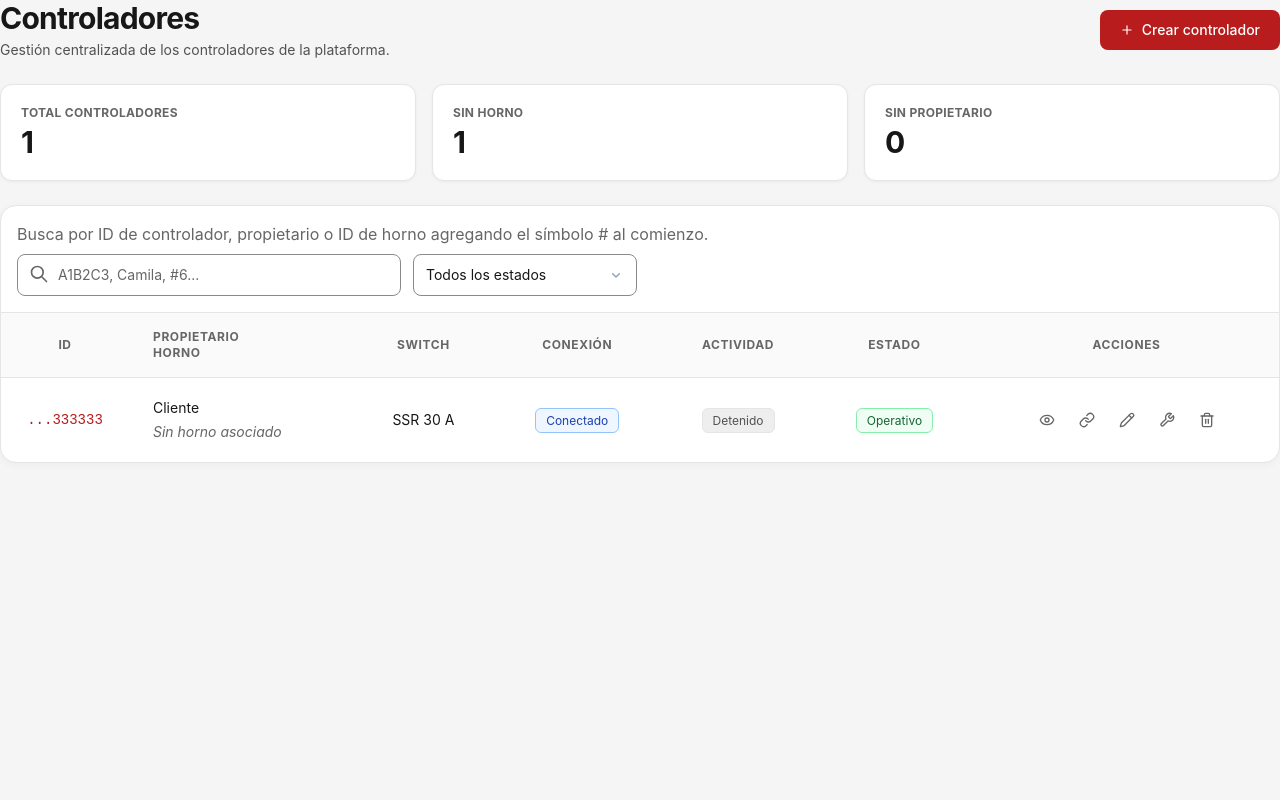
technician equipment management › uses the responsive admin controller detail and association modal
Expected: the column heading "Switch" is shown, [354,313,493,378]
Expected: the column heading "Temperatura" is not shown
Click the button titled "Asociar horno".
click(1086, 420)  # box [1070,404,1102,436]
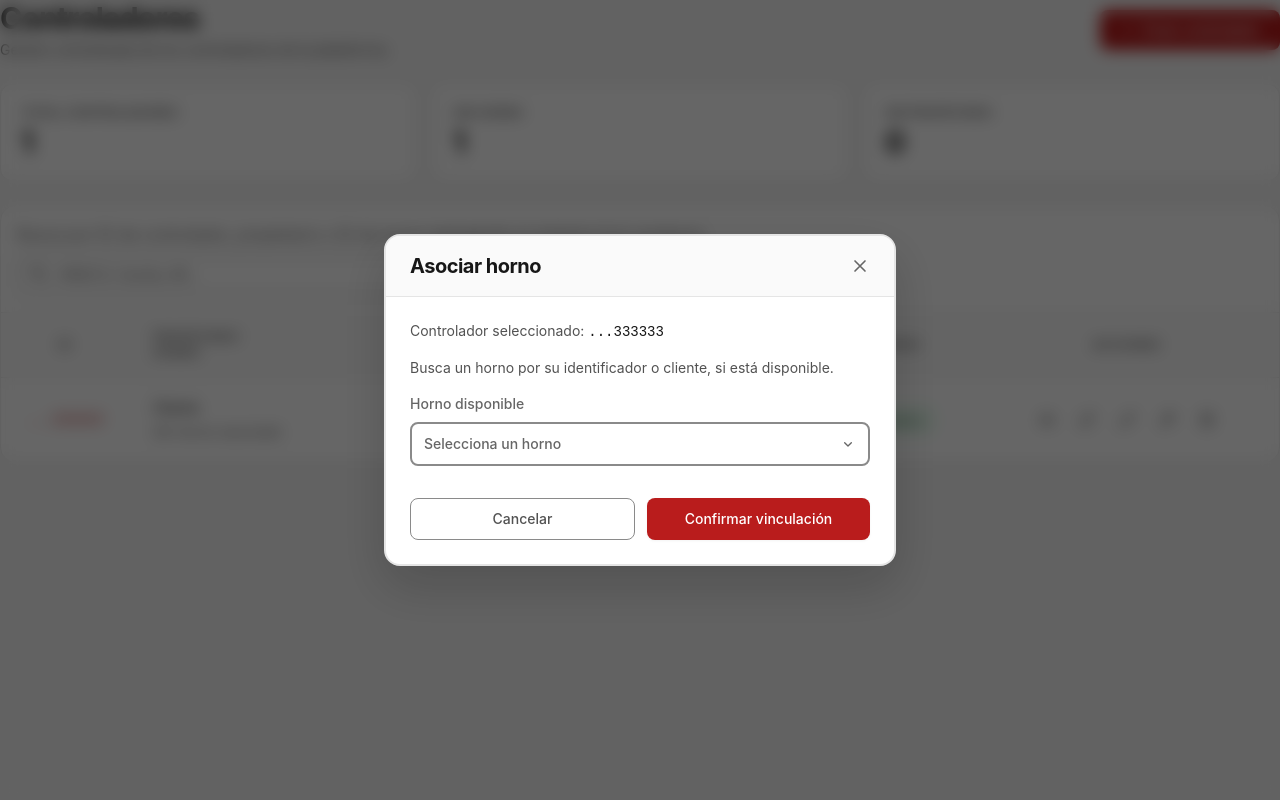
Expected: the heading "Asociar horno" is shown, [410,252,541,280]
Click the button "Cancelar".
click(522, 519)  # box [410,498,635,540]
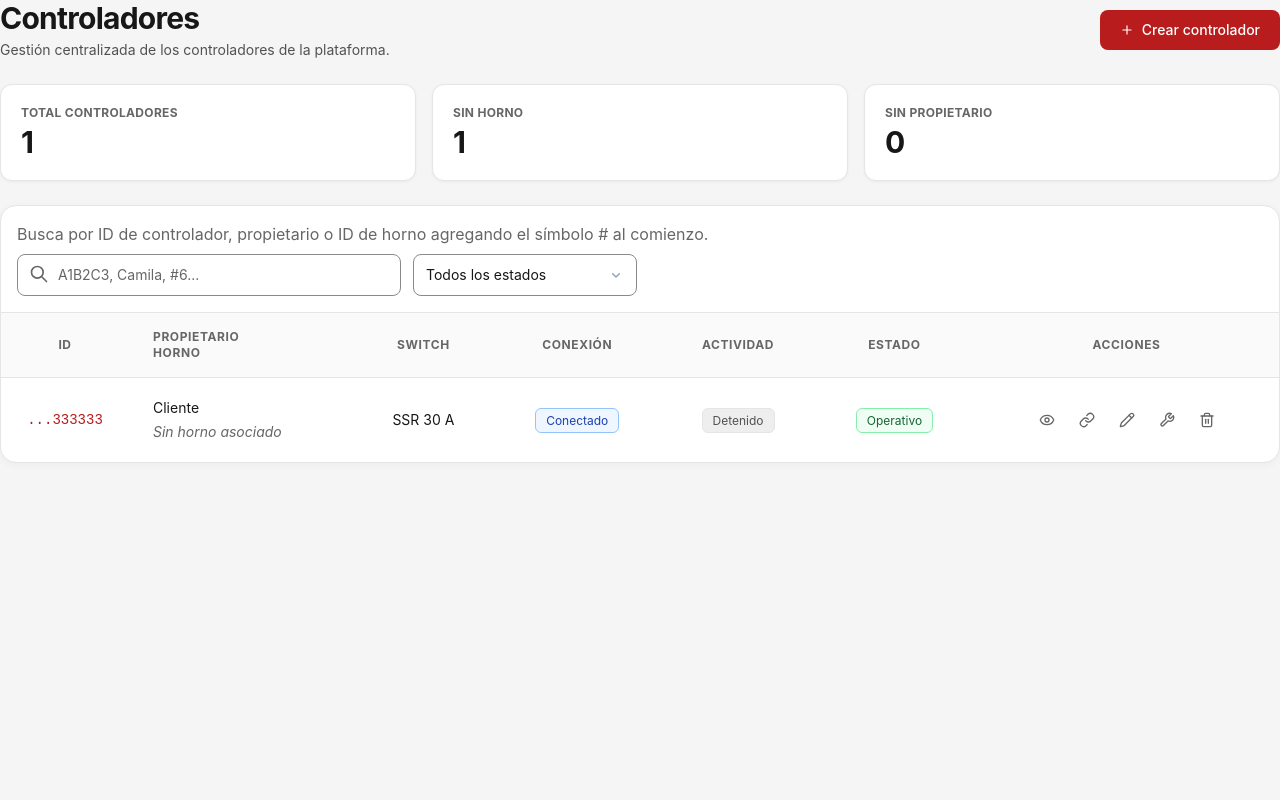
Click the button titled "Ver detalles".
click(1046, 420)  # box [1030,404,1062,436]
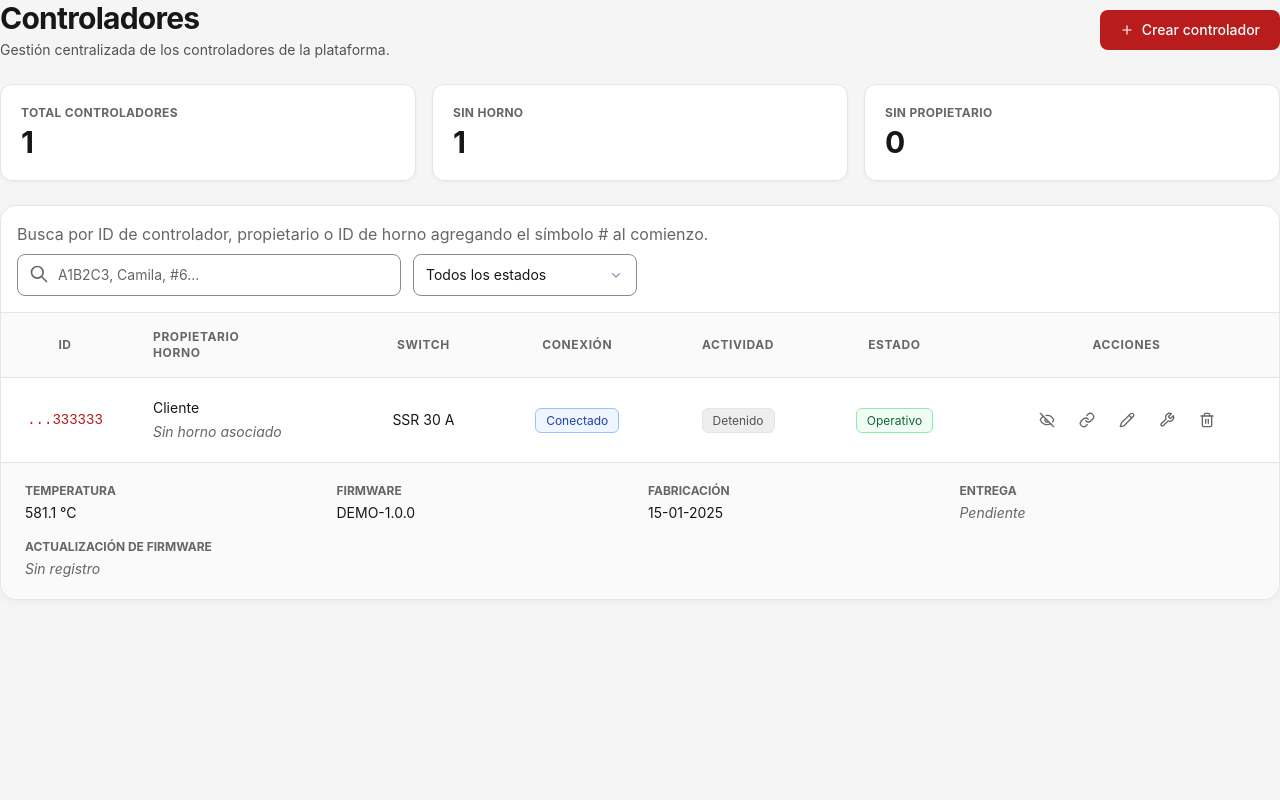
Expected: the text "Temperatura" is shown, [25,483,116,498]
Expected: the text "581.1 °C" is shown, [25,504,77,521]
